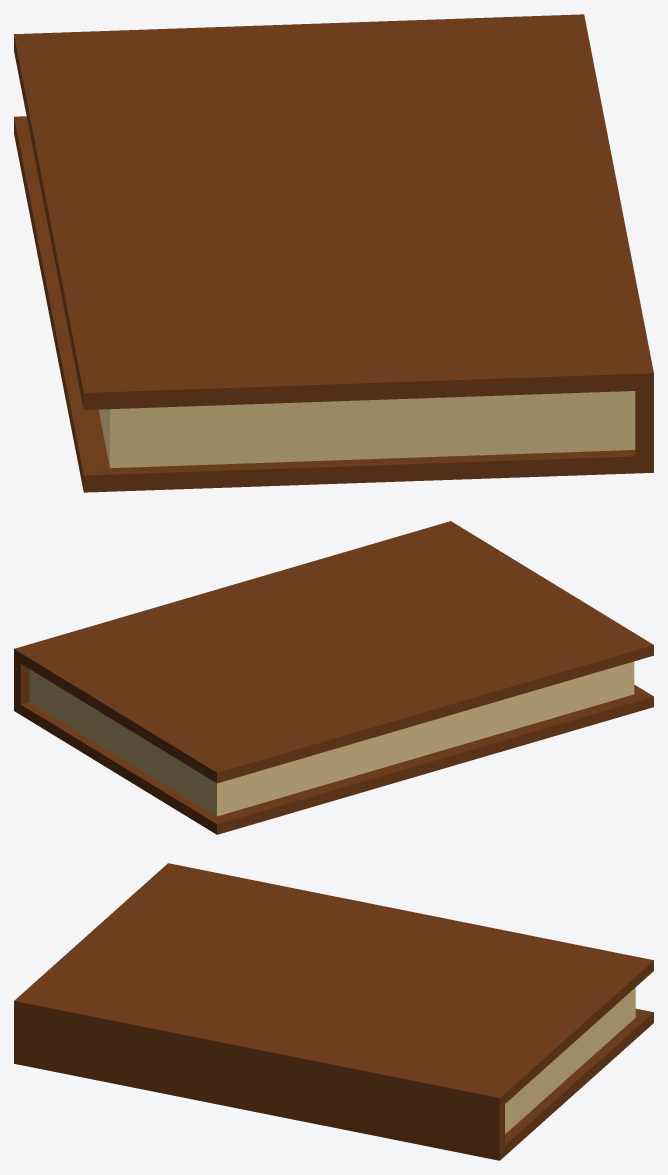
The model's file is Book1_011.fbx.
The picture shows the model from 3 angles, top to bottom: view 1: azimuth 30°, elevation 25°; view 2: azimuth 150°, elevation 25°; view 3: azimuth 270°, elevation 25°; orthographic projection. The views are drawn at different scales.
Visible parts, largest first — view 1: Book1.011; view 2: Book1.011; view 3: Book1.011.
Boxes of the visible parts, bbox=[...] form: Book1.011: bbox=[14, 14, 653, 492]; Book1.011: bbox=[14, 521, 653, 834]; Book1.011: bbox=[14, 863, 653, 1160].
Bounding box in the file's own units: 28.01 × 3.49 × 32.25.
